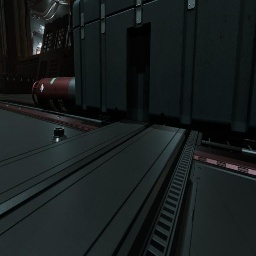FireAlarm ,: (71, 0, 76, 3)
NitrogenTank ,: (32, 77, 87, 113)
